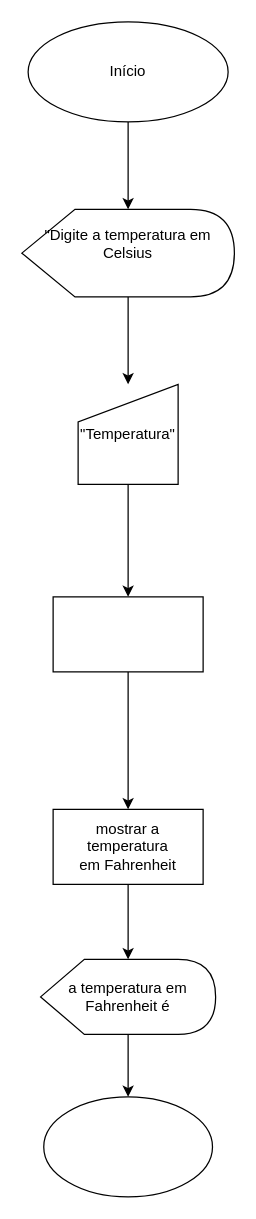
The diagram is 256 pixels wide and 1219 high, and some of its shapes have lost their labels. Each missing label, with the centre of its shape:
"F = C × 1,8 + 32" goes at [127,634].
"fim" goes at [127,1146].
